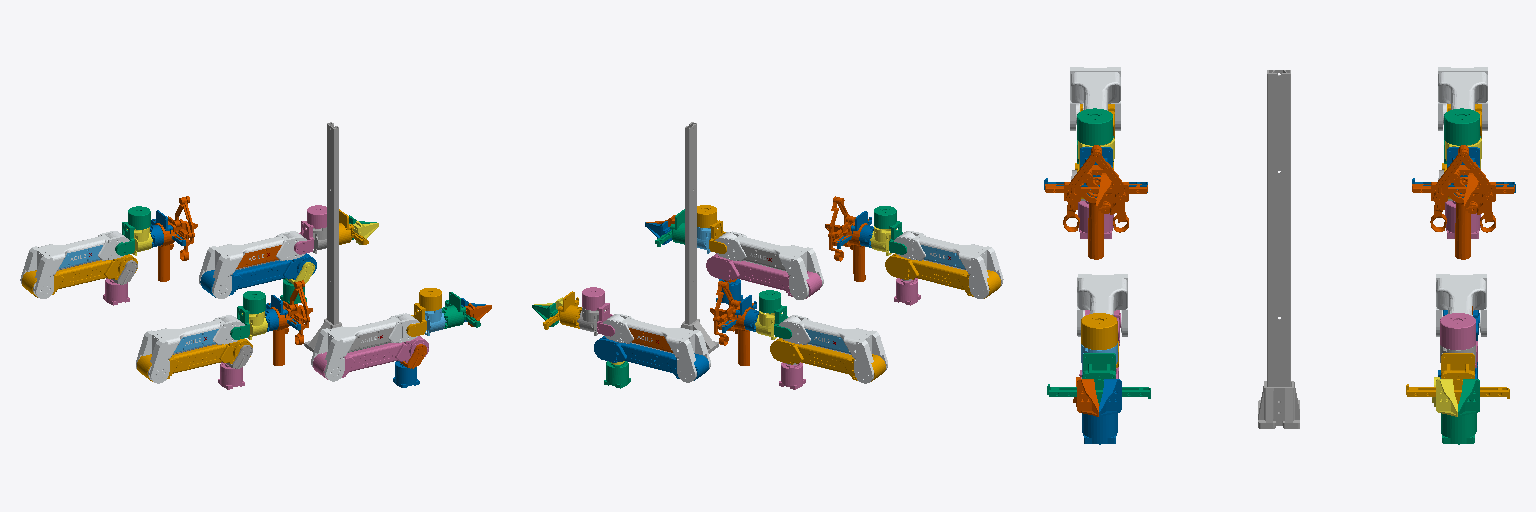
--- Render facts (derived) ---
Views: 3 orthographic renders of the robot side by side, from view 1: azimuth 30°, elevation 25°; view 2: azimuth 150°, elevation 25°; view 3: azimuth 270°, elevation 25°.
Robot: arx5_description — 54 links, 53 joints (24 revolute, 10 continuous, 4 prismatic, 15 fixed); root link footprint; default pose: every joint at zero.
Visible links, largest first — view 1: fr_link3, rr_link3, fl_link3, lr_link3, camera_base_link, fl_link2, fr_link2, lr_link2, rr_link2, rr_link7, lr_link7, fr_link4 (+6 smaller); view 2: lr_link3, rr_link3, fl_link3, fr_link3, camera_base_link, rr_link2, lr_link2, fr_link2, fl_link2, rr_link7, lr_link7, fl_link4 (+9 smaller); view 3: camera_base_link, rr_link7, lr_link7, rr_link3, lr_link3, fl_link3, fr_link3, fl_link6, fr_link6, fr_link4, fl_link4, lr_link4 (+9 smaller).
Link boxes in pixels (box(x1,y1,x2,y2)): fr_link3: box(311, 313, 419, 381); rr_link3: box(136, 315, 244, 383); fl_link3: box(199, 231, 306, 298); lr_link3: box(20, 231, 129, 298); camera_base_link: box(304, 122, 341, 351); fl_link2: box(200, 253, 316, 297); fr_link2: box(313, 336, 428, 379); lr_link2: box(22, 254, 137, 297); rr_link2: box(137, 338, 252, 381); rr_link7: box(269, 280, 312, 365); lr_link7: box(154, 196, 197, 281); fr_link4: box(406, 288, 441, 336); lr_link3: box(779, 315, 887, 383); rr_link3: box(894, 231, 1003, 298); fl_link3: box(603, 314, 710, 382); fr_link3: box(715, 231, 823, 299); camera_base_link: box(681, 122, 718, 353); rr_link2: box(885, 253, 1000, 298); lr_link2: box(770, 338, 885, 381); fr_link2: box(706, 253, 821, 298); fl_link2: box(594, 336, 708, 380); rr_link7: box(825, 196, 868, 281); lr_link7: box(710, 281, 753, 365); fl_link4: box(582, 287, 614, 336); camera_base_link: box(1258, 70, 1299, 428); rr_link7: box(1045, 145, 1147, 259); lr_link7: box(1412, 145, 1514, 259); rr_link3: box(1070, 67, 1120, 130); lr_link3: box(1438, 67, 1487, 130); fl_link3: box(1436, 274, 1486, 336); fr_link3: box(1077, 274, 1127, 336); fl_link6: box(1406, 353, 1509, 403); fr_link6: box(1047, 353, 1150, 404); fr_link4: box(1081, 313, 1118, 367); fl_link4: box(1440, 313, 1477, 367); lr_link4: box(1444, 108, 1480, 163).
Size in the robot's own frame: 1.08 by 0.788 by 0.649 metres.
35 mesh visuals loaded from 19 distinct referenced files (1 binary STL, 10 Collada DAE); not drawn: 17 (reference not matched to a file when rendering).

The robot description file, URDF, robot "arx5_description":
<?xml version="1.0" encoding="utf-8" ?>
<!-- This URDF was automatically created by SolidWorks to URDF Exporter! Originally created by Stephen Brawner ([email redacted]) 
     Commit Version: 1.6.0-4-g7f85cfe  Build Version: 1.6.7995.38578
     For more information, please see http://wiki.ros.org/sw_urdf_exporter -->
<robot name="arx5_description" xmlns:xacro="http://www.ros.org/wiki/xacro">
    <link name="footprint">
    </link>

    <!-- tracer base -->
    <link name="base_link">
        <visual>
            <origin xyz="0 0 0" rpy="1.57 0 0"/>
            <geometry>
                <mesh filename="../meshes/tracer_base_link.dae" />
            </geometry>
        </visual>
        <collision>
            <origin xyz="0 0 0" rpy="1.57 0 0"/>
          <geometry>
            <mesh filename="../meshes/tracer_base_link.STL" />
          </geometry>
        </collision>
    </link>
    <link name="inertial_link">
        <inertial>
            <!--mass value="44.3898489950015" /-->
            <mass value="132.3898489950015" />
            <!-- <mass value="50" /> -->
            <!-- <origin xyz="-0.00065 -0.085 0.062" />
            <inertia ixx="0.6022" ixy="-0.02364" ixz="-0.1197" iyy="1.7386" iyz="-0.001544" izz="2.0296" /> -->
            <origin xyz="0.015 0.0231316650320557 0" />
            <!--<origin
              xyz="-0.0145261552504705 0.0231316650320557 0.00586280190939592"
              rpy="0 0 0" />-->
            <inertia ixx="0.185196122711036"
            ixy="4.30144213829512E-08"
            ixz="5.81037523686401E-08"
            iyy="0.364893736238929"
            iyz="-0.000386720198091934"
            izz="0.223868521722778" />
            <!--<inertia ixx="2.288641" ixy="0" ixz="0" iyy="5.103976" iyz="0" izz="3.431465" />-->
        </inertial>
    </link>

    <joint name="inertial_joint" type="fixed">
        <origin xyz="0 0 0" rpy="0 0 0" />
        <parent link="base_link" />
        <child link="inertial_link" />
    </joint>

    <link name="right_wheel_link">
        <inertial>
            <mass value="6" />
            <origin xyz="0 0 0" />
            <inertia ixx="0.7171" ixy="0" ixz="0" iyy="0.1361" iyz="0" izz="0.7171" />
        </inertial>
        <visual>
            <origin xyz="0 0 0" rpy="0 0 0" />
            <geometry>
                <mesh filename="../meshes/tracer_wheel.dae" />
            </geometry>
        </visual>
        <collision>
        <origin
            xyz="0 0 0"
            rpy="1.57 0 0" />
        <geometry>
            <mesh filename="../meshes/tracer_wheel.dae" />
            <!-- <cylinder radius="0.05" length="0.05" /> -->
        </geometry>
        </collision>
    </link>

    <joint name="right_wheel" type="continuous">
        <parent link="base_link"/>
        <child link="right_wheel_link"/>
        <origin xyz="0 -0.17 -0.082" rpy="0 0 0" />        
        <axis xyz="0 1 0" rpy="0 0 0" />
    </joint>

    <link name="left_wheel_link">
        <inertial>
            <mass value="6" />
            <origin xyz="0 0 0" />
            <inertia ixx="0.7171" ixy="0" ixz="0" iyy="0.1361" iyz="0" izz="0.7171" />
        </inertial>
        <visual>
            <origin xyz="0 0 0" rpy="0 0 0" />
            <geometry>
                <mesh filename="../meshes/tracer_wheel.dae" />
            </geometry>
        </visual>
        <collision>
        <origin
            xyz="0 0 0"
            rpy="1.57 0 0" />
        <geometry>
            <mesh filename="../meshes/tracer_wheel.dae" />
            <!-- <cylinder radius="0.05" length="0.05" /> -->
        </geometry>
        </collision>
    </link>

    <joint name="left_wheel" type="continuous">
        <parent link="base_link"/>
        <child link="left_wheel_link"/>
        <origin xyz="0 0.17 -0.082" rpy="0 0 0" />        
        <axis xyz="0 1 0" rpy="0 0 0" />
    </joint>

    <link name="fl_castor_link">
        <inertial>
            <mass value="1" />
            <origin xyz="0 0 0" />
            <inertia ixx="0.7171" ixy="0" ixz="0" iyy="0.1361" iyz="0" izz="0.7171" />
        </inertial>
        <visual>
                <geometry>
                    <mesh filename="../meshes/castor_joint.dae" />
                </geometry>
        </visual>
    </link>

    <joint name="fl_castor_wheel" type="continuous">
        <parent link="base_link" />
        <child link="fl_castor_link" />
        <origin xyz="0.19 0.17 -0.038" rpy="-1.57 0 0" />        
        <axis xyz="0 1 0" rpy="0 0 0" />
    </joint>

    <link name="fr_castor_link">
        <inertial>
            <mass value="1" />
            <origin xyz="0 0 0" />
            <inertia ixx="0.7171" ixy="0" ixz="0" iyy="0.1361" iyz="0" izz="0.7171" />
        </inertial>
        <visual>
                <geometry>
                    <mesh filename="../meshes/castor_joint.dae" />
                </geometry>
        </visual>
    </link>

    <joint name="fr_castor_wheel" type="continuous">
        <origin xyz="0.18955 -0.17 -0.0380886" rpy="-1.57 0 0" />
        <parent link="base_link" />
        <child link="fr_castor_link" />
        <axis xyz="0 1 0" rpy="0 0 0" />
    </joint>

    <link name="rr_castor_link">
        <inertial>
            <mass value="1" />
            <origin xyz="0 0 0" />
            <inertia ixx="0.7171" ixy="0" ixz="0" iyy="0.1361" iyz="0" izz="0.7171" />
        </inertial>
        <visual>
                <geometry>
                    <mesh filename="../meshes/castor_joint.dae" />
                </geometry>
        </visual>
    </link>

    <joint name="rr_castor_wheel" type="continuous">
        <origin xyz="-0.18955 -0.17 -0.0380886" rpy="-1.57 0 0" />
        <parent link="base_link" />
        <child link="rr_castor_link" />
        <axis xyz="0 1 0" rpy="0 0 0" />
    </joint>

    <link name="rl_castor_link">
        <inertial>
            <mass value="1" />
            <origin xyz="0 0 0" />
            <inertia ixx="0.7171" ixy="0" ixz="0" iyy="0.1361" iyz="0" izz="0.7171" />
        </inertial>
        <visual>
                <geometry>
                    <mesh filename="../meshes/castor_joint.dae" />
                </geometry>
        </visual>
    </link>

    <joint name="rl_castor_wheel" type="continuous">
        <origin xyz="-0.18955 0.17 -0.0380886" rpy="-1.57 0 0" />
        <parent link="base_link" />
        <child link="rl_castor_link" />
        <axis xyz="0 1 0" rpy="0 0 0" />
    </joint>

        <link name="fl_wheel_link">
            <inertial>
                <mass value="1" />
                <origin xyz="0 0 0" />
                <inertia ixx="0.3131" ixy="0" ixz="0" iyy="0.3131" iyz="0" izz="0.1361" />
            </inertial>
            <visual>
               <geometry>
                    <mesh filename="../meshes/castor.dae" />
               </geometry>
            </visual>
            <collision>
              <origin
                xyz="0 0 0"
                rpy="0 0 0" />
              <geometry>
                <mesh filename="../meshes/castor.dae" />
                <!--<cylinder radius="0.025" length="0.025" /> -->
              </geometry>
            </collision>
        </link>

        <joint name="fl_wheel" type="continuous">
            <parent link="fl_castor_link"/>
            <child link="fl_wheel_link"/>
             <dynamics damping="0.0" friction="0.0"/>
            <origin xyz="-0.0218084 0.077 0" rpy="0 0 0" />
            <axis xyz="0 0 1" rpy="0 0 0" />
        </joint>

        <link name="fr_wheel_link">
            <inertial>
                <mass value="1" />
                <origin xyz="0 0 0" />
                <inertia ixx="0.3131" ixy="0" ixz="0" iyy="0.3131" iyz="0" izz="0.1361" />
            </inertial>
            <visual>
                   <geometry>
                   <mesh filename="../meshes/castor.dae" />
                   </geometry>
            </visual>
            <collision>
              <origin
                xyz="0 0 0"
                rpy="0 0 0" />
              <geometry>
                <mesh filename="../meshes/castor.dae" />
                <!-- <cylinder radius="0.025" length="0.025" /> -->
              </geometry>
            </collision>
        </link>

        <joint name="fr_wheel" type="continuous">
            <parent link="fr_castor_link"/>
            <child link="fr_wheel_link"/>
            <dynamics damping="0.0" friction="0.0"/>
            <origin xyz="-0.0218084 0.077 0" rpy="0 0 0" />
            <axis xyz="0 0 1" rpy="0 0 0" />
        </joint>

        <link name="rr_wheel_link">
            <inertial>
                <mass value="1" />
                <origin xyz="0 0 0" />
                <inertia ixx="0.3131" ixy="0" ixz="0" iyy="0.3131" iyz="0" izz="0.1361" />
                <!--<inertia ixx="0" ixy="0" ixz="0" iyy="0" iyz="0" izz="0" />-->
            </inertial>
            <visual>
                   <geometry>
                        <mesh filename="../meshes/castor.dae" />
                   </geometry>
            </visual>
            <collision>
              <origin
                xyz="0 0 0"
                rpy="0 0 0" />
              <geometry>
                <mesh filename="../meshes/castor.dae" />
                <!-- <cylinder radius="0.025" length="0.025" /> -->
              </geometry>
            </collision>
        </link>

        <joint name="rr_wheel" type="continuous">
            <parent link="rr_castor_link"/>
            <child link="rr_wheel_link"/>
            <dynamics damping="0.0" friction="0.0"/>
            <origin xyz="-0.0218084 0.077 0" rpy="0 0 0" />
            <axis xyz="0 0 1" rpy="0 0 0" />
        </joint>

        <link name="rl_wheel_link">
            <inertial>
                <mass value="1" />
                <origin xyz="0 0 0" />
                <inertia ixx="0.3131" ixy="0" ixz="0" iyy="0.3131" iyz="0" izz="0.1361" />
            </inertial>
            <visual>
                   <geometry>
                        <mesh filename="../meshes/castor.dae" />
                   </geometry>
            </visual>
            <collision>
              <origin
                xyz="0 0 0"
                rpy="0 0 0" />
              <geometry>
                <mesh filename="../meshes/castor.dae" /> 
                <!--<cylinder radius="0.025" length="0.025" />-->
              </geometry>
            </collision>
        </link>

        <joint name="rl_wheel" type="continuous">
            <parent link="rl_castor_link"/>
            <child link="rl_wheel_link"/>
            <dynamics damping="0.0" friction="0.0"/>
            <origin xyz="-0.0218084 0.077 0" rpy="0 0 0" />
            <axis xyz="0 0 1" rpy="0 0 0" />
        </joint>

    <!-- aloha base -->
    <joint name="box_joint" type="fixed">
        <origin xyz="0 0 0.15" rpy="0 0 0" />
        <parent link="footprint" />
        <child link="base_link" />
        <axis xyz="0 0 0" />
    </joint>
    <link name="box1_Link">
        <inertial>
            <origin xyz="-0.17227 -0.0012276 0.023432" rpy="0 0 0" />
            <mass value="0.00014994" />
            <inertia ixx="0.012264" ixy="-9.2432E-06" ixz="0.0001761" iyy="0.0045226" iyz="-0.00063248" izz="0.016558" />
        </inertial>
        <visual>
            <origin xyz="0 0 0" rpy="-0.05 0 0" />
            <geometry>
                <mesh filename="../meshes/box1_Link.STL" />
            </geometry>
            <material name="">
                <color rgba="0.79216 0.81961 0.93333 1" />
            </material>
        </visual>
        <collision>
            <origin xyz="0 0 0" rpy="-0.05 0 0" />
            <geometry>
                <mesh filename="../meshes/box1_Link.STL" />
            </geometry>
        </collision>
    </link>
    <joint name="box1" type="fixed">
        <origin xyz="0 0 0.15" rpy="0 0 0" />
        <parent link="footprint" />
        <child link="box1_Link" />
        <axis xyz="0 0 0" />
    </joint>
    <link name="box2_Link">
        <inertial>
            <origin xyz="0.015107 -0.027922 0.00013672" rpy="0 0 0" />
            <mass value="3.736" />
            <inertia ixx="0.097545" ixy="-9.2609E-06" ixz="0.00015366" iyy="0.045841" iyz="-0.0020459" izz="0.084773" />
        </inertial>
        <visual>
            <origin xyz="0 0 0" rpy="0 0 3.141592653589323846" />
            <geometry>
                <mesh filename="../meshes/box2_Link.dae" />
            </geometry>
        </visual>
        <collision>
            <origin xyz="0 0 0" rpy="0 0 3.141592653589323846" />
            <geometry>
                <mesh filename="../meshes/box2_Link.dae" />
            </geometry>
        </collision>
    </link>
    <joint name="box2" type="fixed">
        <origin xyz="0.158 -0.385 -0.135" rpy="0 0 0" />
        <parent link="box1_Link" />
        <child link="box2_Link" />
        <axis xyz="0 0 0" />
    </joint>



    <link
    name="camera_base_link">
    <inertial>
      <origin
        xyz="-0.00862442289199344 -5.31672329634469E-08 0.170092831004467"
        rpy="0 0 0" />
      <mass
        value="0.336269569361489" />
      <inertia
        ixx="0.00580628296841397"
        ixy="3.98435937176716E-10"
        ixz="-2.42350052877161E-05"
        iyy="0.00582602200678083"
        iyz="2.9180594404216E-10"
        izz="0.000186894283496158" />
    </inertial>
    <visual>
      <origin
        xyz="0 0 0"
        rpy="0 0 0" />
      <geometry>
        <mesh
          filename="../meshes/camera_base_link.STL" />
      </geometry>
      <!-- <material
        name="white">
        <color rgba="0.752 0.7529 0.7529 1" />
      </material> -->
    </visual>
    <collision>
      <origin
        xyz="0 0 0"
        rpy="0 0 0" />
      <geometry>
        <mesh
          filename="../meshes/camera_base_link.STL" />
      </geometry>
    </collision>
  </link>

    <joint name="camera_to_box1" type="fixed">
        <origin xyz="0.18 0 0.626" rpy="0 0 0" />
        <parent link="box1_Link" />
        <child link="camera_base_link" />
        <axis xyz="0 0 0" />
    </joint>

  <link
    name="camera_link1">
    <inertial>
      <origin
        xyz="-0.0292387906463559 0.000126439620513119 -0.000724950892729725"
        rpy="0 0 0" />
      <mass
        value="0.0877001598245188" />
      <inertia
        ixx="7.77343248794949E-05"
        ixy="2.44922634558373E-07"
        ixz="1.73341747661077E-08"
        iyy="9.73521513961785E-06"
        iyz="-2.86133018917868E-09"
        izz="7.74948757118157E-05" />
    </inertial>
    <visual>
      <origin
        xyz="0 0 0"
        rpy="0 0 0" />
      <geometry>
        <mesh
          filename="../meshes/camera_link1.dae" />
      </geometry>
      <!-- <material
        name="black">
            <color rgba="0.05 0.05 0.05 0.98" />
      </material> -->
    </visual>
    <collision>
      <origin
        xyz="0 0 0"
        rpy="0 0 0" />
      <geometry>
        <mesh
          filename="../meshes/camera_link1.STL" />
      </geometry>
    </collision>
  </link>
  <joint name="camera_joint1" type="fixed">
    <origin xyz="0.071198 0 0.10384" rpy="0 0.26931 0" />
    <parent link="camera_base_link" />
    <child link="camera_link1" />
    <axis xyz="0 0 0" ryp="0 0 0"/>
  </joint>
  <link name="camera_link2">
    <inertial>
      <origin xyz="-0.0292307474530399 0.000126438461566014 -0.000753459207498031" rpy="0 0 0" />
      <mass value="0.0877001605148491" />
      <inertia
        ixx="7.77338961798341E-05"
        ixy="2.44922367048273E-07"
        ixz="1.80373226250749E-08"
        iyy="9.73521616927317E-06"
        iyz="-2.86130173714525E-09"
        izz="7.74953085203139E-05" />
    </inertial>
    <visual>
      <origin xyz="0 0 0" rpy="0 0 0" />
      <geometry>
        <mesh
          filename="../meshes/camera_link1.dae" />
      </geometry>
      <!-- <material name="black">

      </material> -->
    </visual>
    <collision>
      <origin xyz="0 0 0" rpy="0 0 0" />
      <geometry>
        <mesh
          filename="../meshes/camera_link1.STL" />
      </geometry>
    </collision>
  </link>
  <joint name="camera_joint2" type="fixed">  
    <!-- <origin xyz="-0.11726 0 0.42423" rpy="0 0.011358 0" /> -->
    <origin xyz="-0.14 0 0.5" rpy="0 0.011358 0" />
    <parent link="camera_link1" />
    <child link="camera_link2" />
    <axis
      xyz="0 0 0" />
  </joint>


    <!--***************************** front-left ****************************** -->
    <link name="fl_base_link">
        <inertial>
            <origin xyz="-3.77960552443097E-05 6.79413834922362E-05 0.0272675975957773" rpy="0 0 0" />
            <mass value="0.155112526591278" />
            <inertia ixx="7.60347373757683E-05" ixy="1.31363578468253E-07" ixz="1.65990805634842E-07" iyy="7.64176389864096E-05" iyz="-2.98381448658278E-07" izz="6.94914158355665E-05" />
        </inertial>
        <visual>
            <origin xyz="0 0 0" rpy="0 0 0" />
            <geometry>
                <mesh filename="../meshes/base_arm.dae" />
            </geometry>
            <!-- <material name="black">
                <color rgba="0.05 0.05 0.05 0.98" />
            </material> -->
        </visual>
        <collision>
            <origin xyz="0 0 0" rpy="0 0 0" />
            <geometry>
                <mesh filename="../meshes/base_arm.STL" />
            </geometry>
        </collision>
    </link>
    <joint name="fl_base_joint" type="fixed">
        <origin xyz="0.233 0.3 0.7775" rpy="0.0 0.0 0.0" />
        <parent link="footprint" />
        <child link="fl_base_link" />
        <axis xyz="0.0 0.0 1.0" />
    </joint>
    
    <link name="fl_link1">
        <inertial>
            <origin xyz="0.00625345254733769 -0.024776724575416 0.0152204909116542" rpy="0 0 0" />
            <mass value="0.0216291264377367" />
            <inertia
                ixx="1.15756471313396E-05"
                ixy="1.63728784702967E-06"
                ixz="-2.73767909517805E-06"
                iyy="9.54605859943272E-06"
                iyz="3.01605409074901E-06"
                izz="1.06781021447089E-05" />
        </inertial>
        <visual>
            <origin xyz="0 0 0" rpy="0 0 0" />
            <geometry>
                <mesh filename="../meshes/link1.dae" />
            </geometry>
            <!-- <material name="black">

            </material> -->
        </visual>
        <collision>
            <origin xyz="0 0 0" rpy="0 0 0" />
            <geometry>
                <mesh filename="../meshes/link1.STL" />
            </geometry>
        </collision>
    </link>
    <joint name="fl_joint1" type="revolute">
        <origin xyz="0 0 0.058" rpy="0 0 0" />
        <parent link="fl_base_link" />
        <child link="fl_link1" />
        <axis xyz="0 0 1" />
        <limit lower="-10" upper="10" effort="100" velocity="1000" />
    </joint>
    <link name="fl_link2">
        <inertial>
            <origin xyz="-0.0751817740450955 3.45134309138919E-06 -4.55690287344823E-05" rpy="0 0 0" />
            <mass value="0.317040634327494" />
            <inertia
                ixx="0.000148622978788109"
                ixy="7.9939701538228E-06"
                ixz="2.11594522192149E-06"
                iyy="0.000646291918352959"
                iyz="-1.99305353242084E-08"
                izz="0.000613128041834933" />
        </inertial>
        <visual>
            <origin xyz="0 0 0" rpy="0 0 0" />
            <geometry>
                <mesh filename="../meshes/link2.dae" />
            </geometry>
            <!-- <material name="black">
                
            </material> -->
        </visual>
        <collision>
        <origin  xyz="0 0 0" rpy="0 0 0" />
        <geometry>
            <mesh filename="../meshes/link2.STL" />
        </geometry>
        </collision>
    </link>
    <joint name="fl_joint2" type="revolute">
        <origin xyz="0.025013 0.00060169 0.042" rpy="0 0 0" />
        <parent link="fl_link1" />
        <child link="fl_link2" />
        <axis xyz="0 1 0" />
        <limit lower="-10" upper="10" effort="100" velocity="1000" />
    </joint>
    <link name="fl_link3">
        <inertial>
            <origin xyz="0.0958977122336034 -8.54798924280289E-05 -0.0389029227802006" rpy="0 0 0" />
            <mass value="0.475179901151789" />
            <inertia
                ixx="0.000245797731408424"
                ixy="-1.18756934981885E-06"
                ixz="-3.08627546217305E-07"
                iyy="0.000848596965773723"
                iyz="2.1655980060709E-07"
                izz="0.00073290848648715" />
        </inertial>
        <visual>
            <origin xyz="0 0 0" rpy="0 0 0" />
            <geometry>
                <mesh filename="../meshes/link3.dae" />
            </geometry>
            <!-- <material name="white">
                <color rgba="0.752 0.7529 0.7529 1" />
            </material> -->
        </visual>
        <collision>
            <origin xyz="0 0 0" rpy="0 0 0" />
            <geometry>
                <mesh filename="../meshes/link3.STL" />
            </geometry>
        </collision>
    </link>
    <joint name="fl_joint3" type="revolute">
        <origin xyz="-0.26396 0.0044548 0" rpy="-3.1416 0 -0.015928" />
        <parent link="fl_link2" />
        <child link="fl_link3" />
        <axis xyz="0 1 0" />
        <limit lower="-10" upper="10" effort="100" velocity="1000" />
    </joint>
        <link name="fl_link4">
        <inertial>
            <origin xyz="0.0591385266744759 0.00278044811499105 -0.0552291926495377" rpy="0 0 0" />
            <mass value="0.138133633872797" />
            <inertia
                ixx="5.6812931750694E-05"
                ixy="3.18564570369191E-06"
                ixz="3.31187610383292E-06"
                iyy="5.56751697137782E-05"
                iyz="-2.13897740775086E-06"
                izz="6.42957251144152E-05" />
        </inertial>
        <visual>
            <origin xyz="0 0 0" rpy="0 0 0" />
            <geometry>
                <mesh filename="../meshes/link4.dae" />
            </geometry>
            <!-- <material name="black">
            
            </material> -->
        </visual>
        <collision>
            <origin xyz="0 0 0" rpy="0 0 0" />
            <geometry>
                <mesh filename="../meshes/link4.STL" />
            </geometry>
        </collision>
    </link>
    <joint name="fl_joint4" type="revolute">
        <origin xyz="0.246 -0.00025 -0.06" rpy="0 0 0" />
        <parent link="fl_link3" />
        <child link="fl_link4" />
        <axis xyz="0 1 0" />
        <limit lower="-10" upper="10" effort="100" velocity="1000" />
    </joint>
        <link name="fl_link5">
        <inertial>
            <origin xyz="0.00870303426445659 -2.87406901246252E-05 0.0817957433312705" rpy="0 0 0" />
            <mass value="0.126741777607625" />
            <inertia
                ixx="5.2870226427243E-05"
                ixy="-3.41758559092594E-08"
                ixz="1.05281937338646E-06"
                iyy="4.14245046680039E-05"
                iyz="-7.47381113966083E-08"
                izz="4.46265559731496E-05" />
        </inertial>
        <visual>
            <origin xyz="0 0 0" rpy="0 0 0" />
            <geometry>
                <mesh filename="../meshes/link5.dae" />
            </geometry>
            <!-- <material name="black">

            </material> -->
        </visual>
        <collision>
            <origin xyz="0 0 0" rpy="0 0 0" />
            <geometry>
                <mesh filename="../meshes/link5.STL" />
            </geometry>
        </collision>
    </link>
    <joint name="fl_joint5" type="revolute">
        <origin xyz="0.06775 0.0015 -0.0855" rpy="0 0 -0.015928" />
        <parent link="fl_link4" />
        <child link="fl_link5" />
        <axis xyz="0 0 1" />
        <limit lower="-10" upper="10" effort="100" velocity="1000" />
    </joint>
        <link name="fl_link6">
        <inertial>
            <origin xyz="0.038317562848284 -4.45000434657139E-05 0.00355875192843721" rpy="0 0 0" />
            <mass value="0.142880100739169" />
            <inertia
                ixx="9.84190386012445E-05"
                ixy="9.90777828593097E-08"
                ixz="2.38841662850396E-07"
                iyy="3.95328645641678E-05"
                iyz="2.8992956673539E-07"
                izz="8.4711562610471E-05" />
        </inertial>
        <visual>
            <origin xyz="0 0 0" rpy="0 0 0" />
            <geometry>
                <mesh filename="../meshes/link6.dae" />
            </geometry>
            <!-- <material name="black">

            </material> -->
        </visual>
        <collision>
            <origin xyz="0 0 0" rpy="0 0 0" />
            <geometry>
                <mesh filename="../meshes/link6.STL" />
            </geometry>
        </collision>
    </link>
    <joint name="fl_joint6" type="revolute">
        <origin xyz="0.03095 0 0.0855" rpy="-3.1416 0 0" />
        <parent link="fl_link5" />
        <child link="fl_link6" />
        <axis xyz="1 0 0" />
        <limit lower="-10" upper="10" effort="100" velocity="1000" />
    </joint>

    <!-- 相机的链接 -->
    <link name="left_camera">
        <visual>
            <origin xyz="0 -0.032 0" rpy="1.57 0 1.57"/>
            <geometry>
                <mesh filename="../meshes/d435.dae" /> <!-- 根据D435相机的实际尺寸调整 -->
            </geometry>
            <!-- <material name="black">
                <color rgba="0.8 0.8 0.8 1"/>
            </material> -->
        </visual>
        <collision>
            <origin xyz="0 -0.032 0" rpy="1.57 0 1.57"/>
            <geometry>
                <mesh filename="../meshes/d435.dae" />
            </geometry>
        </collision>
        <inertial>
        <mass value="0.1"/> <!-- 相机的估计质量 -->
        <origin xyz="0 0 0" rpy="0 0 0"/>
        <inertia ixx="0.001" ixy="0.0" ixz="0.0" iyy="0.001" iyz="0.0" izz="0.001"/> <!-- 估计的惯性张量 -->
        </inertial>
    </link>

    <!-- 连接相机和末端执行器的关节 -->
    <joint name="left_camera_joint" type="fixed">
        <parent link="fl_link6"/>
        <child link="left_camera"/>
        <origin xyz="0.07 0.032 0.065" rpy="0 0.4 0"/> <!-- 根据相机的安装位置调整 -->
        <!-- <origin xyz="0.07 0.032 0.06" rpy="0 0 0"/> 根据相机的安装位置调整 -->
    </joint>

    <link name="fl_link7">
        <inertial>
            <origin xyz="0.00626222055030923 -0.00713411663149576 -0.00289898514345116" rpy="0 0 0" />
            <mass value="0.0264779585598598" />
            <inertia
                ixx="8.79642526953154E-06"
                ixy="3.0244685599285E-06"
                ixz="-5.99353466596085E-07"
                iyy="1.48519274221679E-05"
                iyz="1.31550651321036E-07"
                izz="1.1114142640444E-05" />
        </inertial>
        <visual>
            <origin xyz="0 0 0" rpy="0 0 0" />
            <geometry>
                <mesh filename="../meshes/link7.dae" />
            </geometry>
            <!-- <material name="black">

            </material> -->
        </visual>
        <collision>
            <origin xyz="0 0 0" rpy="0 0 0" />
            <geometry>
                <mesh filename="../meshes/link7.STL" />
            </geometry>
        </collision>
    </link>
    <joint name="fl_joint7" type="prismatic">
        <origin xyz="0.08457 0.024493 -0.00010349" rpy="0 0 0" />
        <parent link="fl_link6" />
        <child link="fl_link7" />
        <axis xyz="0 1 0" />
        <limit lower="0" upper="0.04765" effort="100" velocity="1000" />
    </joint>
    <link name="fl_link8">
        <inertial>
            <origin xyz="0.00626222057480438 0.00713411644936678 0.00145300478837504" rpy="0 0 0" />
            <mass value="0.0264779581346586" />
            <inertia
                ixx="9.01311523396113E-06"
                ixy="-3.02446856817399E-06"
                ixz="1.52593574709739E-06"
                iyy="1.50686174477573E-05"
                iyz="5.73251417689975E-07"
                izz="1.11141426397578E-05" />
        </inertial>
        <visual>
            <origin xyz="0 0 0" rpy="0 0 0" />
            <geometry>
                <mesh filename="../meshes/link8.dae" />
            </geometry>
            <!-- <material name="black">

            </material> -->
        </visual>
        <collision>
        <origin xyz="0 0 0" rpy="0 0 0" />
        <geometry>
            <mesh filename="../meshes/link8.STL" />
        </geometry>
        </collision>
    </link>
    <joint name="fl_joint8" type="prismatic">
        <origin xyz="0.08457 -0.024496 -0.00010354" rpy="0 0 0" />
        <parent link="fl_link6" />
        <child link="fl_link8" />
        <axis xyz="0 -1 0" />
        <limit lower="0" upper="0.04765" effort="100" velocity="1000" />
    </joint>
    <!--***************************** front-right ****************************** -->
    <link name="fr_base_link">
        <inertial>
            <origin xyz="-3.77960552443097E-05 6.79413834922362E-05 0.0272675975957773" rpy="0 0 0" />
            <mass value="0.155112526591278" />
            <inertia ixx="7.60347373757683E-05" ixy="1.31363578468253E-07" ixz="1.65990805634842E-07" iyy="7.64176389864096E-05" iyz="-2.98381448658278E-07" izz="6.94914158355665E-05" />
        </inertial>
        <visual>
            <origin xyz="0 0 0" rpy="0 0 0" />
            <geometry>
                <mesh filename="../meshes/base_arm.dae" />
            </geometry>
            <!-- <material name="black">

            </material> -->
        </visual>
        <collision>
            <origin xyz="0 0 0" rpy="0 0 0" />
            <geometry>
                <mesh filename="../meshes/base_arm.STL" />
            </geometry>
        </collision>
    </link>

    <joint name="fr_base_joint" type="fixed">
        <origin xyz="0.233 -0.3 0.7775" rpy="0.0 0.0 0.0" />
        <parent link="footprint" />
        <child link="fr_base_link" />
        <axis xyz="0.0 0.0 1.0" />
    </joint>
    
  <link name="fr_link1">
        <inertial>
            <origin xyz="0.00625345254733769 -0.024776724575416 0.0152204909116542" rpy="0 0 0" />
            <mass value="0.0216291264377367" />
            <inertia
                ixx="1.15756471313396E-05"
                ixy="1.63728784702967E-06"
                ixz="-2.73767909517805E-06"
                iyy="9.54605859943272E-06"
                iyz="3.01605409074901E-06"
                izz="1.06781021447089E-05" />
        </inertial>
        <visual>
            <origin xyz="0 0 0" rpy="0 0 0" />
            <geometry>
                <mesh filename="../meshes/link1.dae" />
            </geometry>
            <!-- <material name="black">

            </material> -->
        </visual>
        <collision>
            <origin xyz="0 0 0" rpy="0 0 0" />
            <geometry>
                <mesh filename="../meshes/link1.STL" />
            </geometry>
        </collision>
    </link>
    <joint name="fr_joint1" type="revolute">
        <origin xyz="0 0 0.058" rpy="0 0 0" />
        <parent link="fr_base_link" />
        <child link="fr_link1" />
        <axis xyz="0 0 1" />
        <limit lower="-10" upper="10" effort="100" velocity="1000" />
    </joint>
    <link
        name="fr_link2">
        <inertial>
            <origin xyz="-0.0751817740450955 3.45134309138919E-06 -4.55690287344823E-05" rpy="0 0 0" />
            <mass value="0.317040634327494" />
            <inertia
                ixx="0.000148622978788109"
                ixy="7.9939701538228E-06"
                ixz="2.11594522192149E-06"
                iyy="0.000646291918352959"
                iyz="-1.99305353242084E-08"
                izz="0.000613128041834933" />
        </inertial>
        <visual>
            <origin xyz="0 0 0" rpy="0 0 0" />
            <geometry>
                <mesh filename="../meshes/link2.dae" />
            </geometry>
            <!-- <material name="black">

            </material> -->
        </visual>
        <collision>
            <origin xyz="0 0 0" rpy="0 0 0" />
            <geometry>
                <mesh filename="../meshes/link2.STL" />
            </geometry>
        </collision>
    </link>
    <joint name="fr_joint2" type="revolute">
        <origin xyz="0.025013 0.00060169 0.042" rpy="0 0 0" />
        <parent link="fr_link1" />
        <child link="fr_link2" />
        <axis xyz="0 1 0" />
        <limit lower="-10" upper="10" effort="100" velocity="1000" />
    </joint>
    <link
        name="fr_link3">
        <inertial>
            <origin xyz="0.0958977122336034 -8.54798924280289E-05 -0.0389029227802006" rpy="0 0 0" />
            <mass value="0.475179901151789" />
            <inertia
                ixx="0.000245797731408424"
                ixy="-1.18756934981885E-06"
                ixz="-3.08627546217305E-07"
                iyy="0.000848596965773723"
                iyz="2.1655980060709E-07"
                izz="0.00073290848648715" />
        </inertial>
        <visual>
            <origin xyz="0 0 0" rpy="0 0 0" />
            <geometry>
                <mesh filename="../meshes/link3.dae" />
            </geometry>
            <!-- <material name="white">

            </material> -->
        </visual>
        <collision>
            <origin xyz="0 0 0" rpy="0 0 0" />
            <geometry>
                <mesh filename="../meshes/link3.STL" />
            </geometry>
        </collision>
    </link>
    <joint name="fr_joint3" type="revolute">
        <origin xyz="-0.26396 0.0044548 0" rpy="-3.1416 0 -0.015928" />
        <parent link="fr_link2" />
        <child link="fr_link3" />
        <axis xyz="0 1 0" />
        <limit lower="-10" upper="10" effort="100" velocity="1000" />
    </joint>
    <link
        name="fr_link4">
        <inertial>
            <origin xyz="0.0591385266744759 0.00278044811499105 -0.0552291926495377" rpy="0 0 0" />
            <mass value="0.138133633872797" />
            <inertia
                ixx="5.6812931750694E-05"
                ixy="3.18564570369191E-06"
                ixz="3.31187610383292E-06"
                iyy="5.56751697137782E-05"
                iyz="-2.13897740775086E-06"
                izz="6.42957251144152E-05" />
        </inertial>
        <visual>
            <origin xyz="0 0 0" rpy="0 0 0" />
            <geometry>
                <mesh filename="../meshes/link4.dae" />
            </geometry>
            <!-- <material name="black">

            </material> -->
        </visual>
        <collision>
            <origin xyz="0 0 0" rpy="0 0 0" />
            <geometry>
                <mesh filename="../meshes/link4.STL" />
            </geometry>
        </collision>
    </link>
    <joint name="fr_joint4" type="revolute">
        <origin xyz="0.246 -0.00025 -0.06" rpy="0 0 0" />
        <parent link="fr_link3" />
        <child link="fr_link4" />
        <axis xyz="0 1 0" />
        <limit lower="-10" upper="10" effort="100" velocity="1000" />
    </joint>
    <link
        name="fr_link5">
        <inertial>
            <origin xyz="0.00870303426445659 -2.87406901246252E-05 0.0817957433312705" rpy="0 0 0" />
            <mass value="0.126741777607625" />
            <inertia
                ixx="5.2870226427243E-05"
                ixy="-3.41758559092594E-08"
                ixz="1.05281937338646E-06"
                iyy="4.14245046680039E-05"
                iyz="-7.47381113966083E-08"
                izz="4.46265559731496E-05" />
        </inertial>
        <visual>
            <origin xyz="0 0 0" rpy="0 0 0" />
            <geometry>
                <mesh filename="../meshes/link5.dae" />
            </geometry>
            <!-- <material name="black">

            </material> -->
        </visual>
        <collision>
        <origin xyz="0 0 0" rpy="0 0 0" />
        <geometry>
            <mesh filename="../meshes/link5.STL" />
        </geometry>
        </collision>
    </link>
    <joint name="fr_joint5" type="revolute">
        <origin xyz="0.06775 0.0015 -0.0855" rpy="0 0 -0.015928" />
        <parent link="fr_link4" />
        <child link="fr_link5" />
        <axis xyz="0 0 1" />
        <limit lower="-10" upper="10" effort="100" velocity="1000" />
    </joint>
    <link name="fr_link6">
        <inertial>
            <origin xyz="0.038317562848284 -4.45000434657139E-05 0.00355875192843721" rpy="0 0 0" />
            <mass value="0.142880100739169" />
            <inertia
                ixx="9.84190386012445E-05"
                ixy="9.90777828593097E-08"
                ixz="2.38841662850396E-07"
                iyy="3.95328645641678E-05"
                iyz="2.8992956673539E-07"
                izz="8.4711562610471E-05" />
        </inertial>
        <visual>
            <origin xyz="0 0 0" rpy="0 0 0" />
            <geometry>
                <mesh filename="../meshes/link6.dae" />
            </geometry>
            <!-- <material name="black">
            </material> -->
        </visual>
        <collision>
        <origin xyz="0 0 0" rpy="0 0 0" />
        <geometry>
            <mesh filename="../meshes/link6.STL" />
        </geometry>
        </collision>
    </link>
    <joint name="fr_joint6" type="revolute">
        <origin xyz="0.03095 0 0.0855" rpy="-3.1416 0 0" />
        <parent link="fr_link5" />
        <child link="fr_link6" />
        <axis xyz="1 0 0" />
        <limit lower="-10" upper="10" effort="100" velocity="1000" />
    </joint>


    <!-- 相机的链接 -->
    <link name="right_camera">
        <visual>
            <origin xyz="0 -0.032 0" rpy="1.57 0 1.57"/>
            <geometry>
                <mesh filename="../meshes/d435.dae" /> <!-- 根据D435相机的实际尺寸调整 -->
            </geometry>
            <!-- <material name="black">
                <color rgba="0 0 0.1 1"/>
            </material> -->
        </visual>
        <collision>
            <origin xyz="0 -0.032 0" rpy="1.57 0 1.57"/>
            <geometry>
                <mesh filename="../meshes/d435.dae" />
            </geometry>
        </collision>
        <inertial>
        <mass value="0.1"/> <!-- 相机的估计质量 -->
        <origin xyz="0 0 0" rpy="0 0 0"/>
        <inertia ixx="0.001" ixy="0.0" ixz="0.0" iyy="0.001" iyz="0.0" izz="0.001"/> <!-- 估计的惯性张量 -->
        </inertial>
    </link>

    <!-- 连接相机和末端执行器的关节 -->
    <joint name="right_camera_joint" type="fixed">
        <parent link="fr_link6"/>
        <child link="right_camera"/>
        <origin xyz="0.07 0.032 0.065" rpy="0 0.4 0"/> <!-- 根据相机的安装位置调整 -->
    </joint>

    <link name="fr_link7">
        <inertial>
            <origin xyz="0.00626222055030923 -0.00713411663149576 -0.00289898514345116" rpy="0 0 0" />
            <mass value="0.0264779585598598" />
            <inertia
                ixx="8.79642526953154E-06"
                ixy="3.0244685599285E-06"
                ixz="-5.99353466596085E-07"
                iyy="1.48519274221679E-05"
                iyz="1.31550651321036E-07"
                izz="1.1114142640444E-05" />
        </inertial>
        <visual>
            <origin xyz="0 0 0" rpy="0 0 0" />
            <geometry>
                <mesh filename="../meshes/link7.dae" />
            </geometry>
            <!-- <material name="black">
            </material> -->
        </visual>
        <collision>
            <origin xyz="0 0 0" rpy="0 0 0" />
            <geometry>
                <mesh filename="../meshes/link7.STL" />
            </geometry>
        </collision>
    </link>
    <joint name="fr_joint7" type="prismatic">
        <origin xyz="0.08457 0.024493 -0.00010349" rpy="0 0 0" />
        <parent link="fr_link6" />
        <child link="fr_link7" />
        <axis xyz="0 1 0" />
        <limit lower="0" upper="0.04765" effort="100" velocity="1000" />
    </joint>
    <link name="fr_link8">
        <inertial>
            <origin xyz="0.00626222057480438 0.00713411644936678 0.00145300478837504" rpy="0 0 0" />
            <mass value="0.0264779581346586" />
            <inertia
                ixx="9.01311523396113E-06"
                ixy="-3.02446856817399E-06"
                ixz="1.52593574709739E-06"
                iyy="1.50686174477573E-05"
                iyz="5.73251417689975E-07"
                izz="1.11141426397578E-05" />
        </inertial>
        <visual>
            <origin xyz="0 0 0" rpy="0 0 0" />
            <geometry>
                <mesh filename="../meshes/link8.dae" />
            </geometry>
            <!-- <material name="black">
            </material> -->
        </visual>
        <collision>
            <origin xyz="0 0 0" rpy="0 0 0" />
            <geometry>
                <mesh filename="../meshes/link8.STL" />
            </geometry>
        </collision>
    </link>
    <joint name="fr_joint8" type="prismatic">
        <origin xyz="0.08457 -0.024496 -0.00010354" rpy="0 0 0" />
        <parent link="fr_link6" />
        <child link="fr_link8" />
        <axis xyz="0 -1 0" />
        <limit lower="0" upper="0.04765" effort="100" velocity="1000" />
    </joint>
    <!--***************************** left-rear ****************************** -->
    <link name="lr_base_link">
        <inertial>
            <origin xyz="-2.9972E-05 3.056E-05 0.027301" rpy="0 0 0" />
            <mass value="0.44038" />
            <inertia ixx="0.00017" ixy="0.00000" ixz="0.00000" iyy="0.00018" iyz="0.00000" izz="0.00016" />
        </inertial>
        <visual>
            <origin xyz="0 0 0" rpy="0 0 0" />
            <geometry>
                <mesh filename="../meshes/base_arm.dae" />
            </geometry>
            <!-- <material name="black">
                <color rgba="0.75294 0.75294 0.75294 1" />
            </material> -->
        </visual>
        <collision>
            <origin xyz="0 0 0" rpy="0 0 0" />
            <geometry>
                <mesh filename="../meshes/base_arm.STL" />
            </geometry>
        </collision>
    </link>
    <joint name="lr_base_joint" type="fixed">
        <origin xyz="-0.309 0.307 0.903" rpy="0.0 0.0 0.0" />
        <parent link="footprint" />
        <child link="lr_base_link" />
        <axis xyz="0.0 0.0 1.0" />
    </joint>
    <link name="lr_link1">
        <inertial>
            <origin xyz="0.00609525411893452 -0.00429681977500749 0.0179590247477389" rpy="0 0 0" />
            <mass value="0.0608351104988555" />
            <inertia ixx="0.00008" ixy="0.00000" ixz="0.00001" iyy="0.00003" iyz="0.00000" izz="0.00007" />
        </inertial>
        <visual>
            <origin xyz="0 0 0" rpy="0 0 0" />
            <geometry>
                <mesh filename="../meshes/link1.dae" />
            </geometry>
            <!-- <material name="black">
                <color rgba="0.752941176470588 0.752941176470588 0.752941176470588 1" />
            </material> -->
        </visual>
        <collision>
            <origin xyz="0 0 0" rpy="0 0 0" />
            <geometry>
                <mesh filename="../meshes/link1.STL" />
            </geometry>
        </collision>
    </link>
    <joint name="lr_joint1" type="revolute">
        <origin xyz="0 0 0.0603" rpy="0 0 0" />
        <parent link="lr_base_link" />
        <child link="lr_link1" />
        <axis xyz="0 0 1" />
        <limit lower="-10" upper="10" effort="100" velocity="1000" />
    </joint>
    <link name="lr_link2">
        <inertial>
            <origin xyz="-0.132382037190567 0.00220380675553821 0.000111790164679923" rpy="0 0 0" />
            <mass value="1.0733279014126" />
            <inertia ixx="0.00050" ixy="0.00000" ixz="-0.00004" iyy="0.01596" iyz="0.00000" izz="0.01602" />
        </inertial>
        <visual>
            <origin xyz="0 0 0" rpy="0 0 0" />
            <geometry>
                <mesh filename="../meshes/link2.dae" />
            </geometry>
            <!-- <material name="black">
                <color rgba="0.752941176470588 0.752941176470588 0.752941176470588 1" />
            </material> -->
        </visual>
        <collision>
            <origin xyz="0 0 0" rpy="0 0 0" />
            <geometry>
                <mesh filename="../meshes/link2.STL" />
            </geometry>
        </collision>
    </link>
    <joint name="lr_joint2" type="revolute">
        <origin xyz="0.02 0 0.0402" rpy="0 0 0" />
        <parent link="lr_link1" />
        <child link="lr_link2" />
        <axis xyz="0 1 0" />
        <dynamics damping="0.0" friction="100.0"/>
        <limit lower="-10" upper="10" effort="100" velocity="1000" />
    </joint>
    <link name="lr_link3">
        <inertial>
            <origin xyz="0.187203287369961 -0.000305676361444925 -0.0514832866415513" rpy="0 0 0" />
            <mass value="0.499404738025019" />
            <inertia ixx="0.00033" ixy="-0.00006" ixz="-0.00039" iyy="0.00387" iyz="0.00001" izz="0.00383" />
        </inertial>
        <visual>
            <origin xyz="0 0 0" rpy="0 0 0" />
            <geometry>
                <mesh filename="../meshes/link3.dae" />
            </geometry>
            <!-- <material name="white">
                <color rgba="0.752941176470588 0.752941176470588 0.752941176470588 1" />
            </material> -->
        </visual>
        <collision>
            <origin xyz="0 0 0" rpy="0 0 0" />
            <geometry>
                <mesh filename="../meshes/link3.STL" />
            </geometry>
        </collision>
    </link>
    <joint name="lr_joint3" type="revolute">
        <origin xyz="-0.264 0 0" rpy="-3.1416 0 0" />
        <parent link="lr_link2" />
        <child link="lr_link3" />
        <axis xyz="0 1 0" />
        <dynamics damping="0.0" friction="100.0"/>
        <limit lower="-10" upper="10" effort="100" velocity="1000" />
    </joint>
    <link name="lr_link4">
        <inertial>
            <origin xyz="0.0388884702662706 0.00295168681334743 -0.0353282735009622" rpy="0 0 0" />
            <mass value="0.0809712553169999" />
            <inertia ixx="0.00013" ixy="-0.00001" ixz="-0.00006" iyy="0.00016" iyz="0.00001" izz="0.00010" />
        </inertial>
        <visual>
            <origin xyz="0 0 0" rpy="0 0 0" />
            <geometry>
                <mesh filename="../meshes/link4.dae" />
            </geometry>
            <!-- <material name="black">
                <color rgba="0.898039215686275 0.917647058823529 0.929411764705882 1" />
            </material> -->
        </visual>
        <collision>
            <origin xyz="0 0 0" rpy="0 0 0" />
            <geometry>
                <mesh filename="../meshes/link4.STL" />
            </geometry>
        </collision>
    </link>
    <joint name="lr_joint4" type="revolute">
        <origin xyz="0.245 0 -0.056" rpy="0 0 0" />
        <parent link="lr_link3" />
        <child link="lr_link4" />
        <axis xyz="0 1 0" />
        <limit lower="-10" upper="10" effort="100" velocity="1000" />
    </joint>
    <link name="lr_link5">
        <inertial>
            <origin xyz="0.00289956909960302 3.15826689885766E-05 0.0526188859211408" rpy="0 0 0" />
            <mass value="0.602357399313257" />
            <inertia ixx="0.00072" ixy="0.00000" ixz="0.00005" iyy="0.00069" iyz="0.00000" izz="0.00021" />
        </inertial>
        <visual>
            <origin xyz="0 0 0" rpy="0 0 0" />
            <geometry>
                <mesh filename="../meshes/link5.dae" />
            </geometry>
            <!-- <material name="black">
                <color rgba="0.752941176470588 0.752941176470588 0.752941176470588 1" />
            </material> -->
        </visual>
        <collision>
            <origin xyz="0 0 0" rpy="0 0 0" />
            <geometry>
                <mesh filename="../meshes/link5.STL" />
            </geometry>
        </collision>
    </link>
    <joint name="lr_joint5" type="revolute">
        <origin xyz="0.06575 -0.001 -0.0825" rpy="0 0 0" />
        <parent link="lr_link4" />
        <child link="lr_link5" />
        <axis xyz="0 0 1" />
        <limit lower="-10" upper="10" effort="100" velocity="1000" />
    </joint>
    <link name="lr_link6">
        <inertial>
            <origin xyz="0.0471798400661976 0.000102970421835668 -0.000138510949393961" rpy="0 0 0" />
            <mass value="0.462244960775882" />
            <inertia ixx="0.00068" ixy="0.00000" ixz="0.00000" iyy="0.00036" iyz="-0.00001" izz="0.00091" />
        </inertial>
        <visual>
            <origin xyz="0 0 0" rpy="0 0 0" />
            <geometry>
                <mesh filename="../meshes/link6.dae" />
            </geometry>
            <!-- <material name="black">
                <color rgba="0.898039215686275 0.917647058823529 0.929411764705882 1" />
            </material> -->
        </visual>
        <collision>
            <origin xyz="0 0 0" rpy="0 0 0" />
            <geometry>
                <mesh filename="../meshes/link6.STL" />
            </geometry>
        </collision>
    </link>
    <joint name="lr_joint6" type="revolute">
        <origin xyz="0.02845 0 0.0825" rpy="-3.1416 0 0" />
        <parent link="lr_link5" />
        <child link="lr_link6" />
        <axis xyz="1 0 0" />
        <limit lower="-10" upper="10" effort="100" velocity="1000" />
    </joint>
    <link name="lr_link7">
        <inertial>
            <origin xyz="-0.000327642774520215 -0.00482005374028087 -0.00167540868720402" rpy="0 0 0" />
            <mass value="0.0484016660227936" />
            <inertia ixx="0.00001" ixy="0.00000" ixz="0.00000" iyy="0.00002" iyz="0.00000" izz="0.00002" />
        </inertial>
        <visual>
            <origin xyz="0 0 0" rpy="0 0 0" />
            <geometry>
                <mesh filename="../meshes/back_link7.dae" />
            </geometry>
            <!-- <material name="black">
                <color rgba="0.898039215686275 0.917647058823529 0.929411764705882 1" />
            </material> -->
        </visual>
        <collision>
            <origin xyz="0 0 0" rpy="0 0 0" />
            <geometry>
                <mesh filename="../meshes/back_link7.STL" />
            </geometry>
        </collision>
    </link>
    <joint name="lr_joint7" type="fixed">
        <origin xyz="0 0 0" rpy="0 0 0" />
        <parent link="lr_link6" />
        <child link="lr_link7" />
        <axis xyz="0 0 1" />
        <limit lower="0" upper="0.4765" effort="100" velocity="1000" />
    </joint>
    

    <!--***************************** right-rear ****************************** -->
    <link name="rr_base_link">
        <inertial>
            <origin xyz="-2.9972E-05 3.056E-05 0.027301" rpy="0 0 0" />
            <mass value="0.44038" />
            <inertia ixx="0.00017" ixy="0.00000" ixz="0.00000" iyy="0.00018" iyz="0.00000" izz="0.00016" />
        </inertial>
        <visual>
            <origin xyz="0 0 0" rpy="0 0 0" />
            <geometry>
                <mesh filename="../meshes/base_arm.dae" />
            </geometry>
            <!-- <material name="black">
                <color rgba="0.75294 0.75294 0.75294 1" />
            </material> -->
        </visual>
        <collision>
            <origin xyz="0 0 0" rpy="0 0 0" />
            <geometry>
                <mesh filename="../meshes/base_arm.STL" />
            </geometry>
        </collision>
    </link>
    <joint name="rr_base_joint" type="fixed">
        <origin xyz="-0.309 -0.307 0.903" rpy="0.0 0.0 0.0" />
        <parent link="footprint" />
        <child link="rr_base_link" />
        <axis xyz="0.0 0.0 1.0" />
    </joint>
    <link name="rr_link1">
        <inertial>
            <origin xyz="0.00609525411893452 -0.00429681977500749 0.0179590247477389" rpy="0 0 0" />
            <mass value="0.0608351104988555" />
            <inertia ixx="0.00008" ixy="0.00000" ixz="0.00001" iyy="0.00003" iyz="0.00000" izz="0.00007" />
        </inertial>
        <visual>
            <origin xyz="0 0 0" rpy="0 0 0" />
            <geometry>
                <mesh filename="../meshes/link1.dae" />
            </geometry>
            <!-- <material name="black">
                <color rgba="0.752941176470588 0.752941176470588 0.752941176470588 1" />
            </material> -->
        </visual>
        <collision>
            <origin xyz="0 0 0" rpy="0 0 0" />
            <geometry>
                <mesh filename="../meshes/link1.STL" />
            </geometry>
        </collision>
    </link>
    <joint name="rr_joint1" type="revolute">
        <origin xyz="0 0 0.0603" rpy="0 0 0" />
        <parent link="rr_base_link" />
        <child link="rr_link1" />
        <axis xyz="0 0 1" />
        <limit lower="-10" upper="10" effort="100" velocity="1000" />
    </joint>
    <link name="rr_link2">
        <inertial>
            <origin xyz="-0.132382037190567 0.00220380675553821 0.000111790164679923" rpy="0 0 0" />
            <mass value="1.0733279014126" />
            <inertia ixx="0.00050" ixy="0.00000" ixz="-0.00004" iyy="0.01596" iyz="0.00000" izz="0.01602" />
        </inertial>
        <visual>
            <origin xyz="0 0 0" rpy="0 0 0" />
            <geometry>
                <mesh filename="../meshes/link2.dae" />
            </geometry>
            <!-- <material name="black">
                <color rgba="0.752941176470588 0.752941176470588 0.752941176470588 1" />
            </material> -->
        </visual>
        <collision>
            <origin xyz="0 0 0" rpy="0 0 0" />
            <geometry>
                <mesh filename="../meshes/link2.STL" />
            </geometry>
        </collision>
    </link>
    <joint name="rr_joint2" type="revolute">
        <origin xyz="0.02 0 0.0402" rpy="0 0 0" />
        <parent link="rr_link1" />
        <child link="rr_link2" />
        <axis xyz="0 1 0" />
        <limit lower="-10" upper="10" effort="100" velocity="1000" />
    </joint>
    <link name="rr_link3">
        <inertial>
            <origin xyz="0.187203287369961 -0.000305676361444925 -0.0514832866415513" rpy="0 0 0" />
            <mass value="0.499404738025019" />
            <inertia ixx="0.00033" ixy="-0.00006" ixz="-0.00039" iyy="0.00387" iyz="0.00001" izz="0.00383" />
        </inertial>
        <visual>
            <origin xyz="0 0 0" rpy="0 0 0" />
            <geometry>
                <mesh filename="../meshes/link3.dae" />
            </geometry>
            <!-- <material name="white">
                <color rgba="0.752941176470588 0.752941176470588 0.752941176470588 1" />
            </material> -->
        </visual>
        <collision>
            <origin xyz="0 0 0" rpy="0 0 0" />
            <geometry>
                <mesh filename="../meshes/link3.STL" />
            </geometry>
        </collision>
    </link>
    <joint name="rr_joint3" type="revolute">
        <origin xyz="-0.264 0 0" rpy="-3.1416 0 0" />
        <parent link="rr_link2" />
        <child link="rr_link3" />
        <axis xyz="0 1 0" />
        <limit lower="-10" upper="10" effort="100" velocity="1000" />
    </joint>
    <link name="rr_link4">
        <inertial>
            <origin xyz="0.0388884702662706 0.00295168681334743 -0.0353282735009622" rpy="0 0 0" />
            <mass value="0.0809712553169999" />
            <inertia ixx="0.00013" ixy="-0.00001" ixz="-0.00006" iyy="0.00016" iyz="0.00001" izz="0.00010" />
        </inertial>
        <visual>
            <origin xyz="0 0 0" rpy="0 0 0" />
            <geometry>
                <mesh filename="../meshes/link4.dae" />
            </geometry>
            <!-- <material name="black">
                <color rgba="0.898039215686275 0.917647058823529 0.929411764705882 1" />
            </material> -->
        </visual>
        <collision>
            <origin xyz="0 0 0" rpy="0 0 0" />
            <geometry>
                <mesh filename="../meshes/link4.STL" />
            </geometry>
        </collision>
    </link>
    <joint name="rr_joint4" type="revolute">
        <origin xyz="0.245 0 -0.056" rpy="0 0 0" />
        <parent link="rr_link3" />
        <child link="rr_link4" />
        <axis xyz="0 1 0" />
        <limit lower="-10" upper="10" effort="100" velocity="1000" />
    </joint>
    <link name="rr_link5">
        <inertial>
            <origin xyz="0.00289956909960302 3.15826689885766E-05 0.0526188859211408" rpy="0 0 0" />
            <mass value="0.602357399313257" />
            <inertia ixx="0.00072" ixy="0.00000" ixz="0.00005" iyy="0.00069" iyz="0.00000" izz="0.00021" />
        </inertial>
        <visual>
            <origin xyz="0 0 0" rpy="0 0 0" />
            <geometry>
                <mesh filename="../meshes/link5.dae" />
            </geometry>
            <!-- <material name="black">
                <color rgba="0.752941176470588 0.752941176470588 0.752941176470588 1" />
            </material> -->
        </visual>
        <collision>
            <origin xyz="0 0 0" rpy="0 0 0" />
            <geometry>
                <mesh filename="../meshes/link5.STL" />
            </geometry>
        </collision>
    </link>
    <joint name="rr_joint5" type="revolute">
        <origin xyz="0.06575 -0.001 -0.0825" rpy="0 0 0" />
        <parent link="rr_link4" />
        <child link="rr_link5" />
        <axis xyz="0 0 1" />
        <limit lower="-10" upper="10" effort="100" velocity="1000" />
    </joint>
    <link name="rr_link6">
        <inertial>
            <origin xyz="0.0471798400661976 0.000102970421835668 -0.000138510949393961" rpy="0 0 0" />
            <mass value="0.462244960775882" />
            <inertia ixx="0.00068" ixy="0.00000" ixz="0.00000" iyy="0.00036" iyz="-0.00001" izz="0.00091" />
        </inertial>
        <visual>
            <origin xyz="0 0 0" rpy="0 0 0" />
            <geometry>
                <mesh filename="../meshes/link6.dae" />
            </geometry>
            <!-- <material name="black">
                <color rgba="0.898039215686275 0.917647058823529 0.929411764705882 1" />
            </material> -->
        </visual>
        <collision>
            <origin xyz="0 0 0" rpy="0 0 0" />
            <geometry>
                <mesh filename="../meshes/link6.STL" />
            </geometry>
        </collision>
    </link>
    <joint name="rr_joint6" type="revolute">
        <origin xyz="0.02845 0 0.0825" rpy="-3.1416 0 0" />
        <parent link="rr_link5" />
        <child link="rr_link6" />
        <axis xyz="1 0 0" />
        <limit lower="-10" upper="10" effort="100" velocity="1000" />
    </joint>
    <link name="rr_link7">
        <inertial>
            <origin xyz="-0.000327642774520215 -0.00482005374028087 -0.00167540868720402" rpy="0 0 0" />
            <mass value="0.0484016660227936" />
            <inertia ixx="0.00001" ixy="0.00000" ixz="0.00000" iyy="0.00002" iyz="0.00000" izz="0.00002" />
        </inertial>
        <visual>
            <origin xyz="0 0 0" rpy="0 0 0" />
            <geometry>
                <mesh filename="../meshes/back_link7.dae" />
            </geometry>
            <!-- <material name="black">
                <color rgba="0.898039215686275 0.917647058823529 0.929411764705882 1" />
            </material> -->
        </visual>
        <collision>
            <origin xyz="0 0 0" rpy="0 0 0" />
            <geometry>
                <mesh filename="../meshes/back_link7.STL" />
            </geometry>
        </collision>
    </link>
    <joint name="rr_joint7" type="fixed">
        <origin xyz="0 0 0" rpy="0 0 0" />
        <parent link="rr_link6" />
        <child link="rr_link7" />
        <axis xyz="0 0 1" />
        <limit lower="0" upper="0.4765" effort="100" velocity="1000" />
    </joint>
    
    

</robot>
